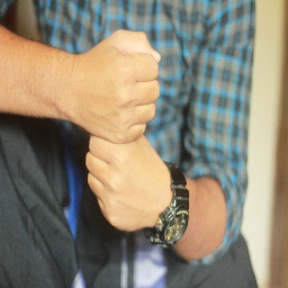G: (71, 26, 179, 229)
